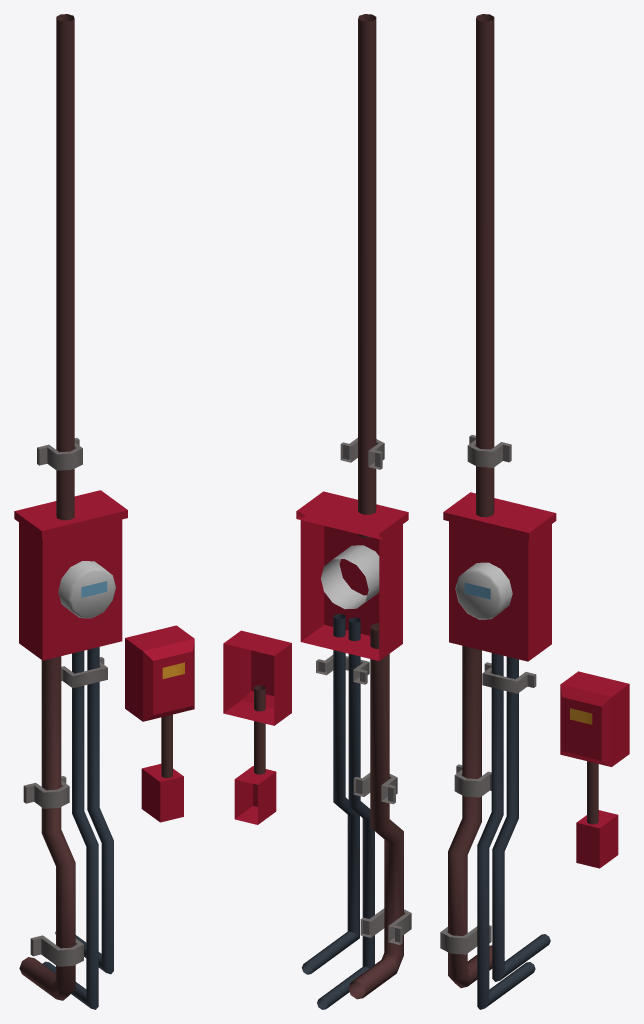
File: interior_H_002.fbx
3 renders of one model, left to right at view 1: azimuth 30°, elevation 25°; view 2: azimuth 150°, elevation 25°; view 3: azimuth 330°, elevation 25°, orthographic.
Visible parts, largest first — view 1: interior_H_002; view 2: interior_H_002; view 3: interior_H_002.
Part boxes in pixels (bbox=[...]): interior_H_002: bbox=[14, 14, 194, 1009]; interior_H_002: bbox=[223, 14, 411, 1009]; interior_H_002: bbox=[440, 14, 629, 1009].
Size of the model in its own units: 57.04 by 330 by 33.06.
7 materials, 1 textured.
